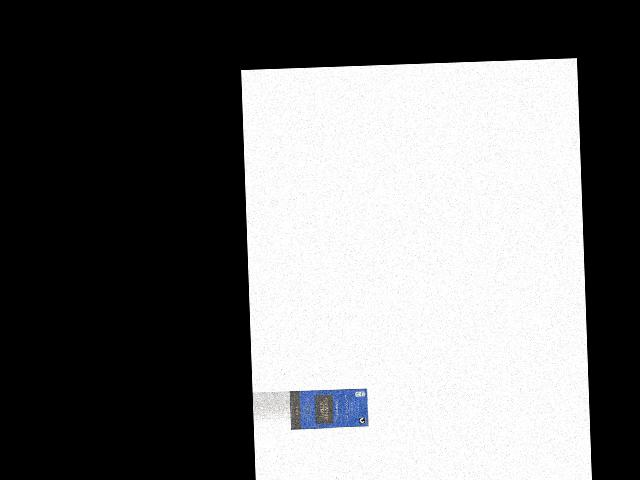chocolate: (289, 387, 367, 429)
